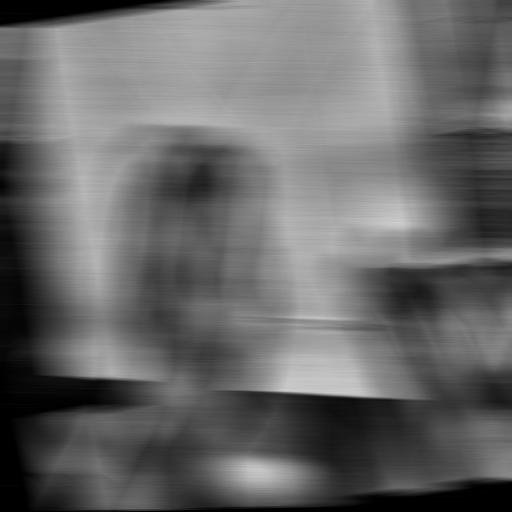bottom_left: (57, 365, 88, 381)
bottom_right: (447, 389, 479, 404)
envelop: (71, 0, 407, 382)
